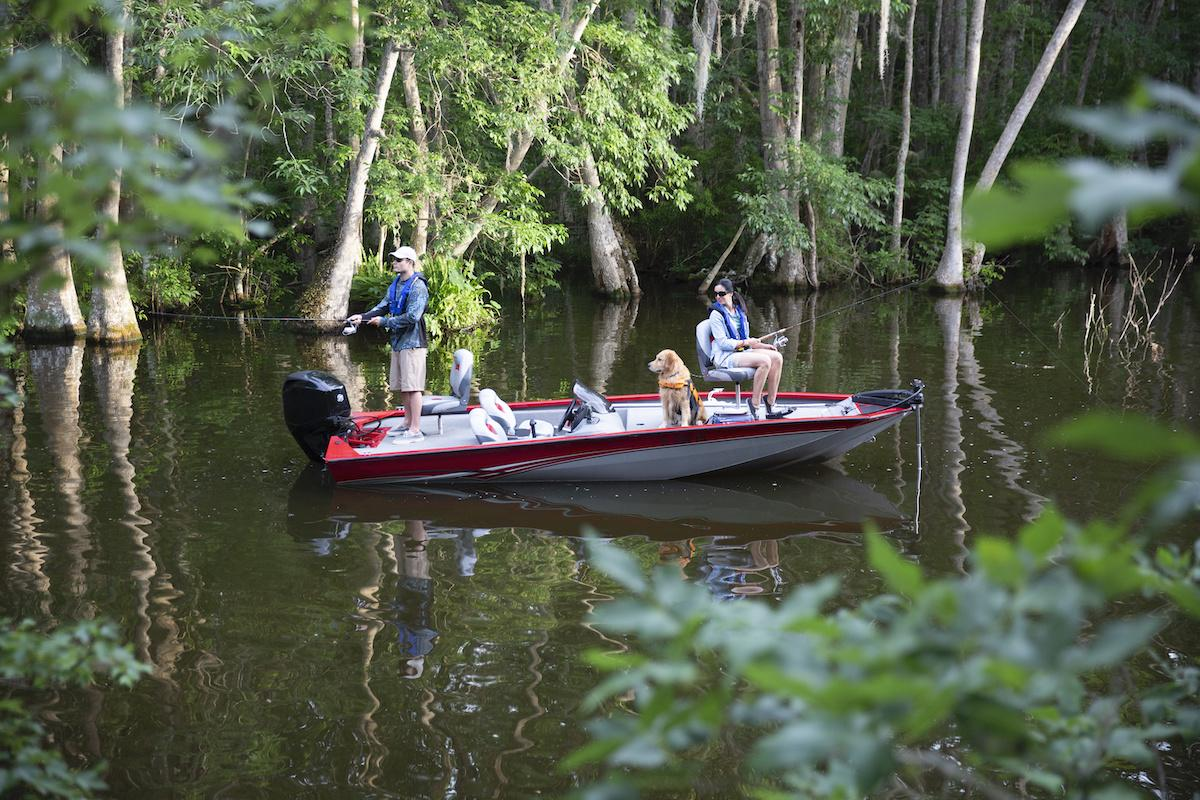fishing boat: (277, 243, 928, 490)
